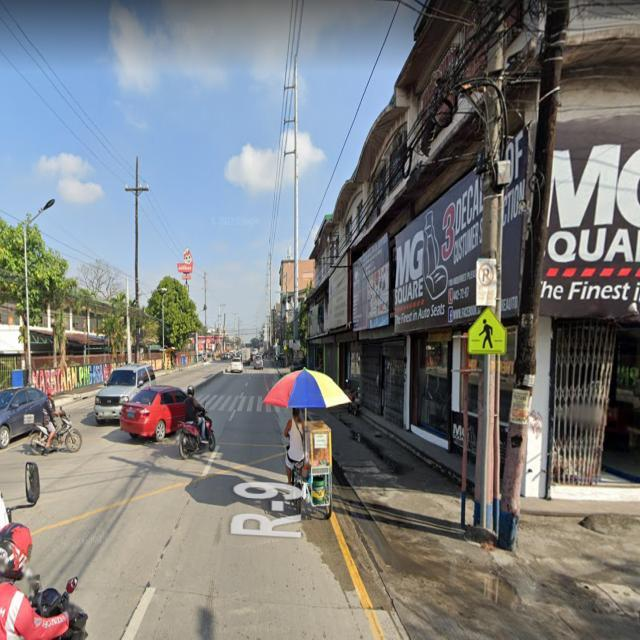pedestrian crossing: (466, 309, 508, 353)
